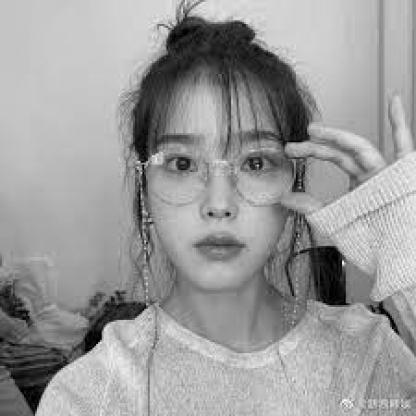glasses: (114, 142, 313, 208)
